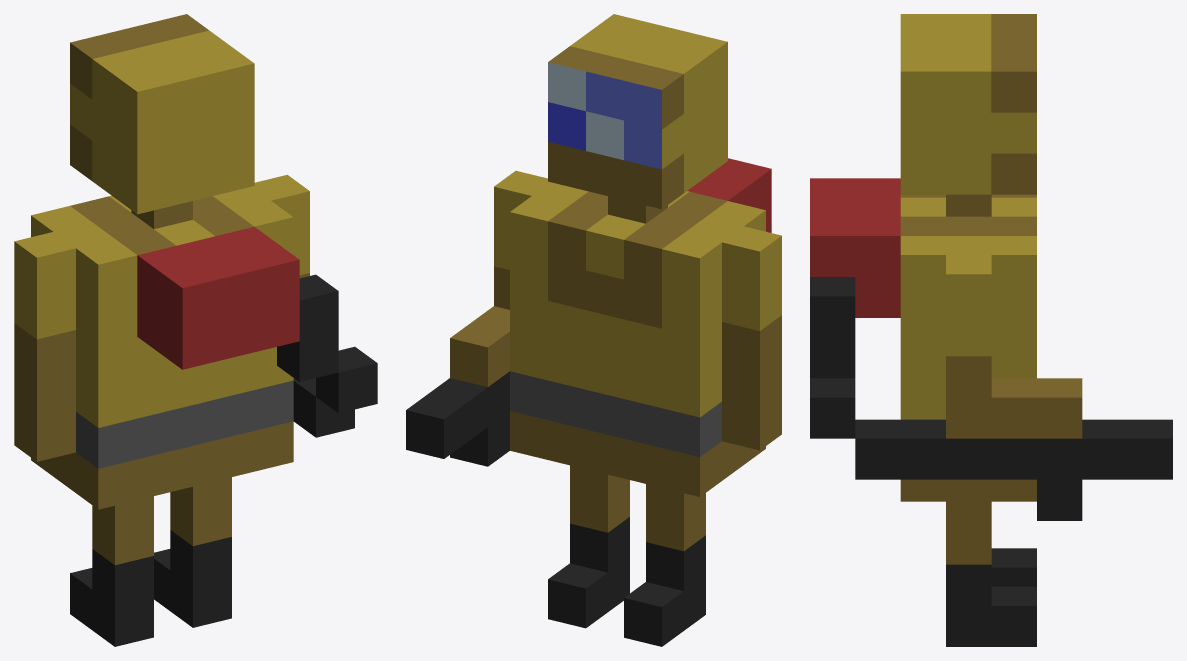
The model's file is flamethrower_0.fbx.
3 views of the same model, side by side, from view 1: azimuth 30°, elevation 25°; view 2: azimuth 150°, elevation 25°; view 3: azimuth 270°, elevation 25° (orthographic). The views are drawn at different scales.
Parts seen in each view (by area): view 1: Cube.048; view 2: Cube.048; view 3: Cube.048.
Boxes of the visible parts, <box> form: Cube.048: <box>14,14,377,646</box>; Cube.048: <box>406,14,781,646</box>; Cube.048: <box>810,14,1172,646</box>.
Size of the model in its own units: 70 by 140 by 80.
